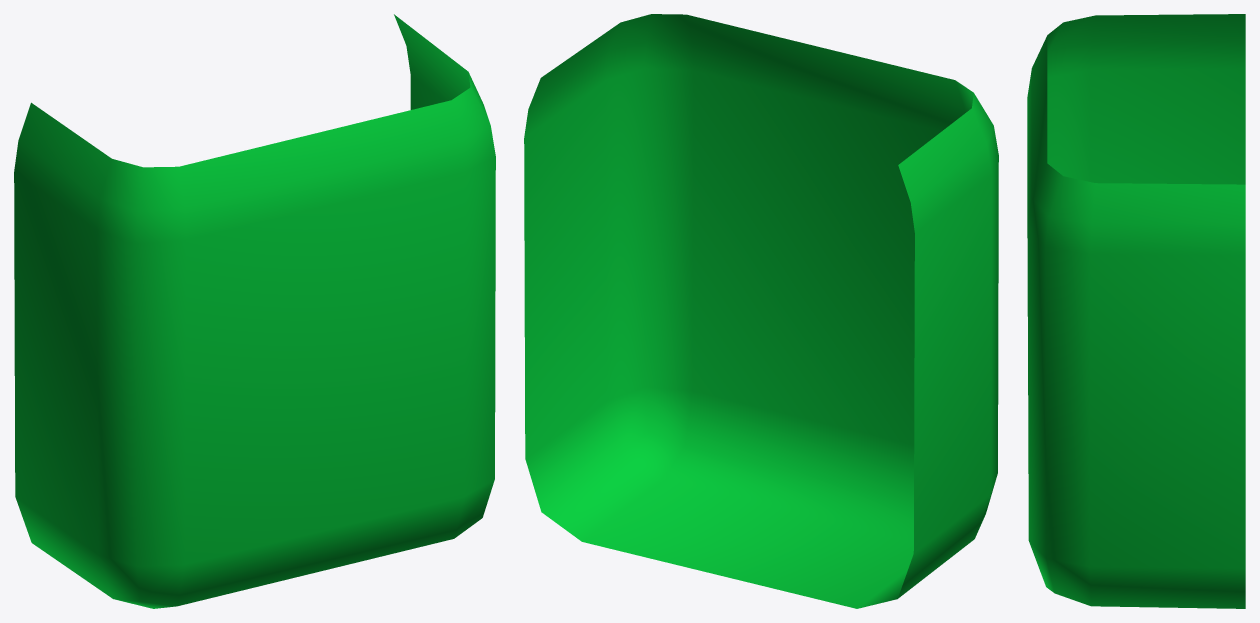
Rendered from PotionLiquid_Slime.fbx.
The picture shows the model from 3 angles, left to right: view 1: azimuth 30°, elevation 25°; view 2: azimuth 150°, elevation 25°; view 3: azimuth 270°, elevation 25°; orthographic projection. The views are drawn at different scales.
Visible parts, largest first — view 1: PotionLiquid_Sludge; view 2: PotionLiquid_Sludge; view 3: PotionLiquid_Sludge.
Part boxes in pixels (x1=…): PotionLiquid_Sludge: x1=14, y1=14, x2=495, y2=608; PotionLiquid_Sludge: x1=524, y1=14, x2=998, y2=608; PotionLiquid_Sludge: x1=1027, y1=14, x2=1245, y2=608.
Size of the model in its own units: 51.53 by 57.2 by 25.46.
